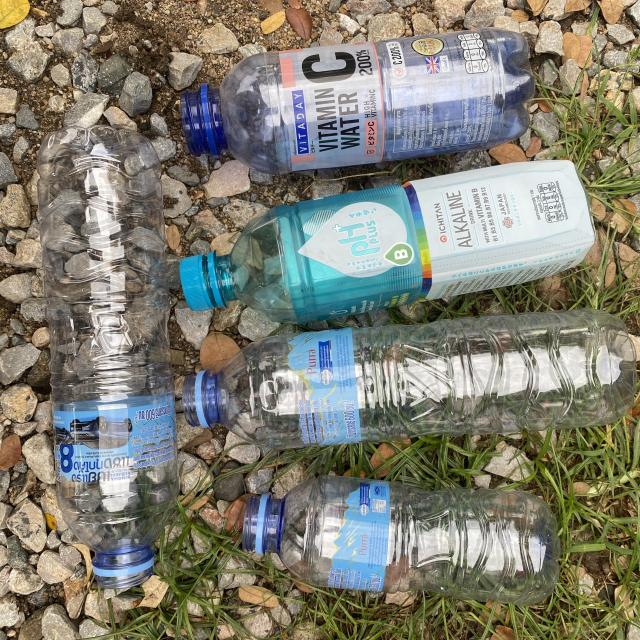plastik: (180, 161, 595, 324), (38, 126, 178, 589), (182, 310, 635, 449), (180, 29, 535, 174), (242, 476, 559, 604)
